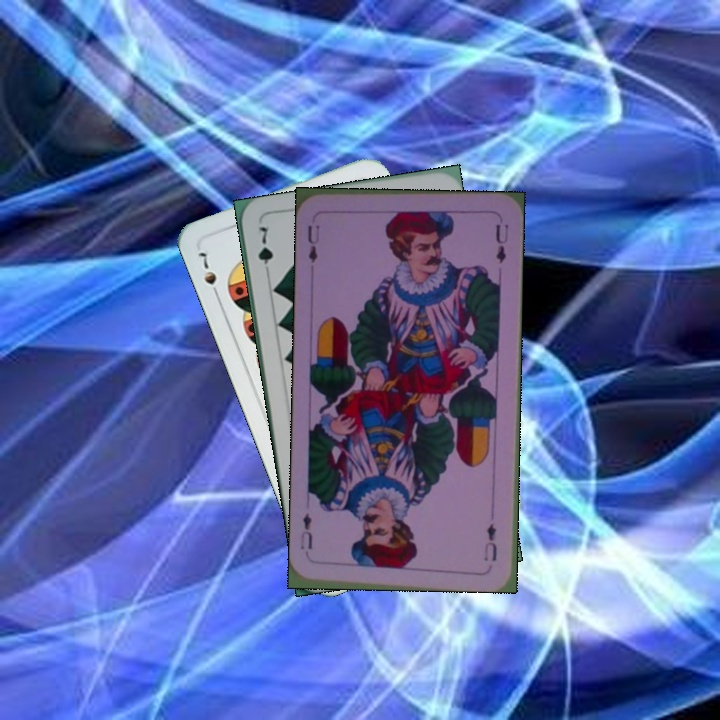EU: (303, 221, 322, 266), (481, 519, 500, 564)
G7: (253, 222, 276, 280)
S7: (195, 247, 223, 302)
